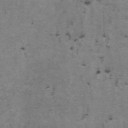oxide scale of temperature system: (82, 32, 119, 86), (55, 18, 85, 40), (81, 108, 90, 120), (51, 85, 56, 96), (84, 0, 92, 6), (54, 3, 60, 10), (26, 90, 31, 96), (108, 17, 112, 24), (108, 115, 113, 120), (20, 46, 26, 50)
